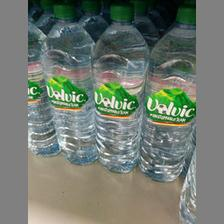Wasser: (138, 5, 194, 181), (92, 4, 148, 172), (39, 3, 95, 166)
